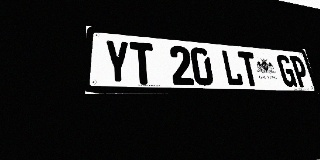0: (190, 47, 214, 86)
2: (169, 45, 194, 85)
G: (276, 55, 298, 87)
L: (220, 50, 244, 86)
P: (289, 56, 311, 87)
T: (130, 42, 156, 85), (237, 51, 260, 86)
Y: (104, 39, 131, 84)
